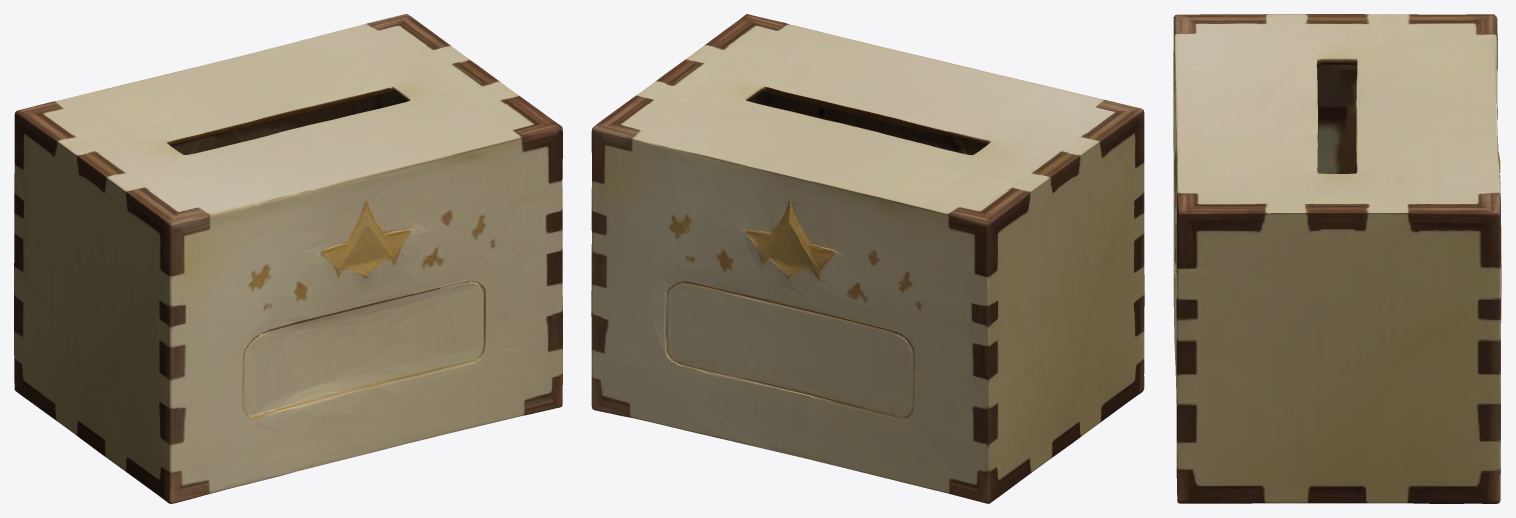
3 views of the same model, side by side, from view 1: azimuth 30°, elevation 25°; view 2: azimuth 150°, elevation 25°; view 3: azimuth 270°, elevation 25° (orthographic). The views are drawn at different scales.
Parts seen in each view (by area): view 1: geometry_0; view 2: geometry_0; view 3: geometry_0.
Part boxes in pixels (<box>): geometry_0: <box>14,14,562,503</box>; geometry_0: <box>591,14,1144,503</box>; geometry_0: <box>1173,14,1501,503</box>.
Size of the model in its own units: 0.9999 by 0.681 by 0.6939.
Materials: 1 (1 with a texture image).
